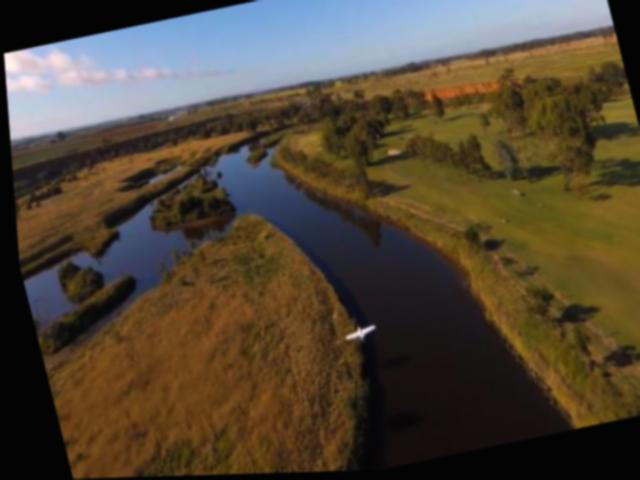uav: (331, 318, 375, 350)
